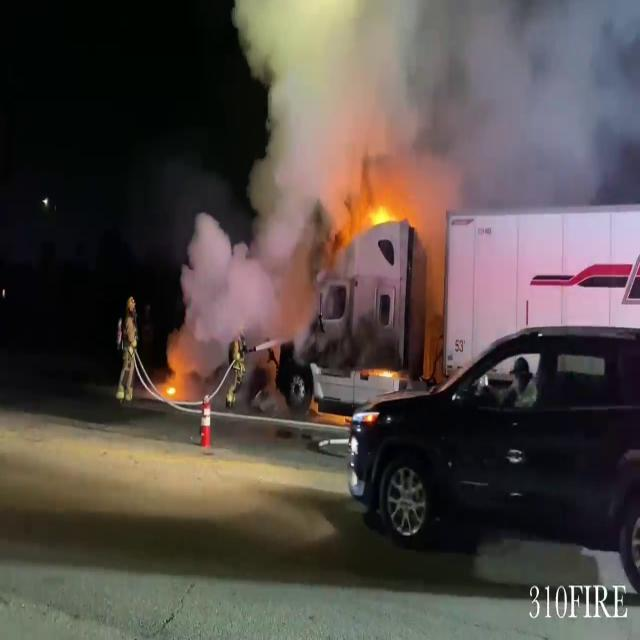Fire: (354, 186, 418, 237)
Smoke: (218, 0, 640, 245), (163, 198, 304, 386)
